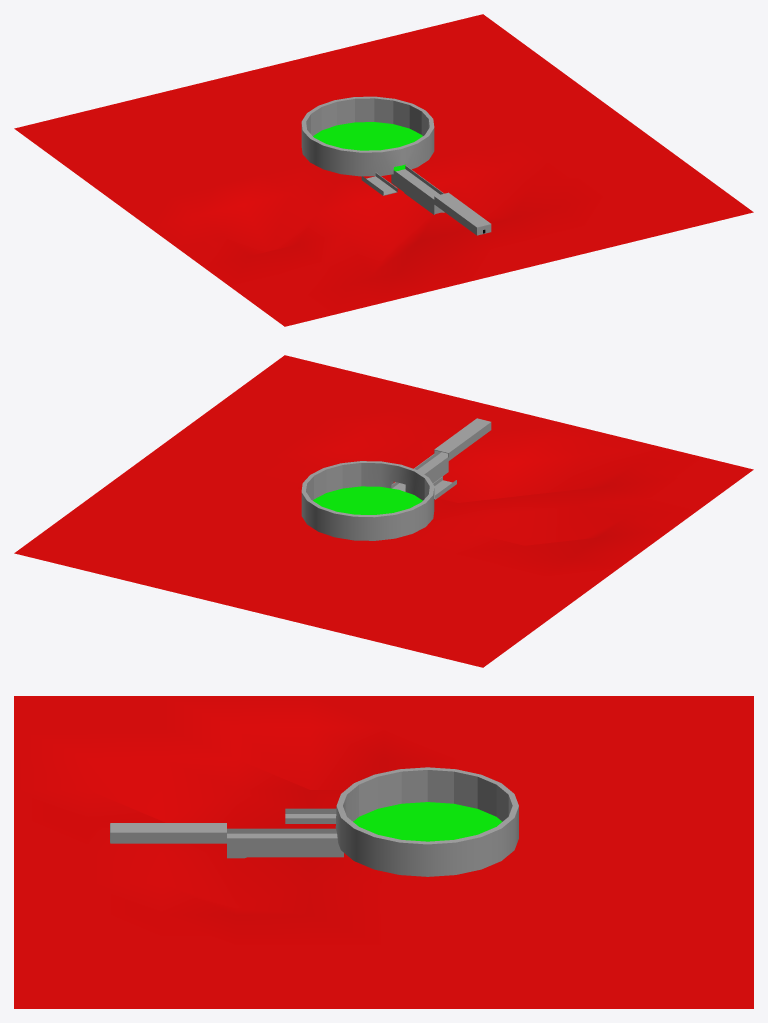
File: Maurice_HallwayLevel.fbx
3 views of the same model, one above another, from view 1: azimuth 30°, elevation 25°; view 2: azimuth 150°, elevation 25°; view 3: azimuth 270°, elevation 25° (orthographic). The views are drawn at different scales.
Visible parts, largest first — view 1: pPlane1, pCylinder1, pCube13, pCube9, pCube10; view 2: pPlane1, pCylinder1, pCube8, pCube9; view 3: pPlane1, pCylinder1, pCube9, pCube13, pCube8, pCube10, pCube12.
Part boxes in pixels (<box>): pPlane1: <box>14,14,753,326</box>; pCylinder1: <box>301,96,434,176</box>; pCube13: <box>391,165,426,198</box>; pCube9: <box>412,181,444,214</box>; pCube10: <box>455,208,491,235</box>; pPlane1: <box>14,355,753,667</box>; pCylinder1: <box>301,461,434,540</box>; pCube8: <box>434,434,469,460</box>; pCube9: <box>414,453,448,483</box>; pPlane1: <box>14,696,753,1008</box>; pCylinder1: <box>335,767,518,876</box>; pCube9: <box>227,828,285,858</box>; pCube13: <box>285,828,343,857</box>; pCube8: <box>168,823,226,843</box>; pCube10: <box>110,823,168,843</box>; pCube12: <box>285,808,336,823</box>.
Size of the model in its own units: 12918 by 1652 by 12918.
